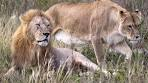lion: (8, 9, 99, 81), (45, 5, 141, 69)
